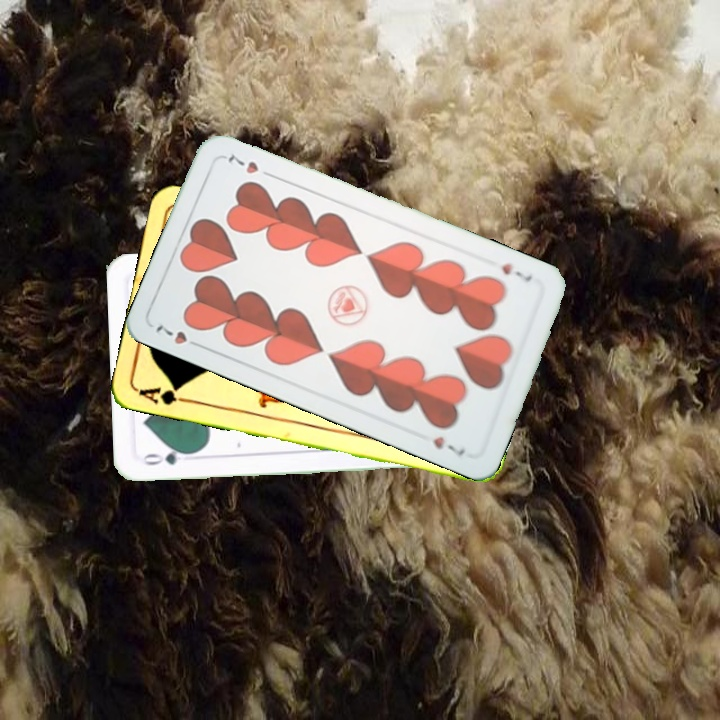GA: (135, 381, 194, 408)
GO: (139, 445, 197, 468)
H7: (151, 321, 206, 351), (497, 259, 535, 286)
